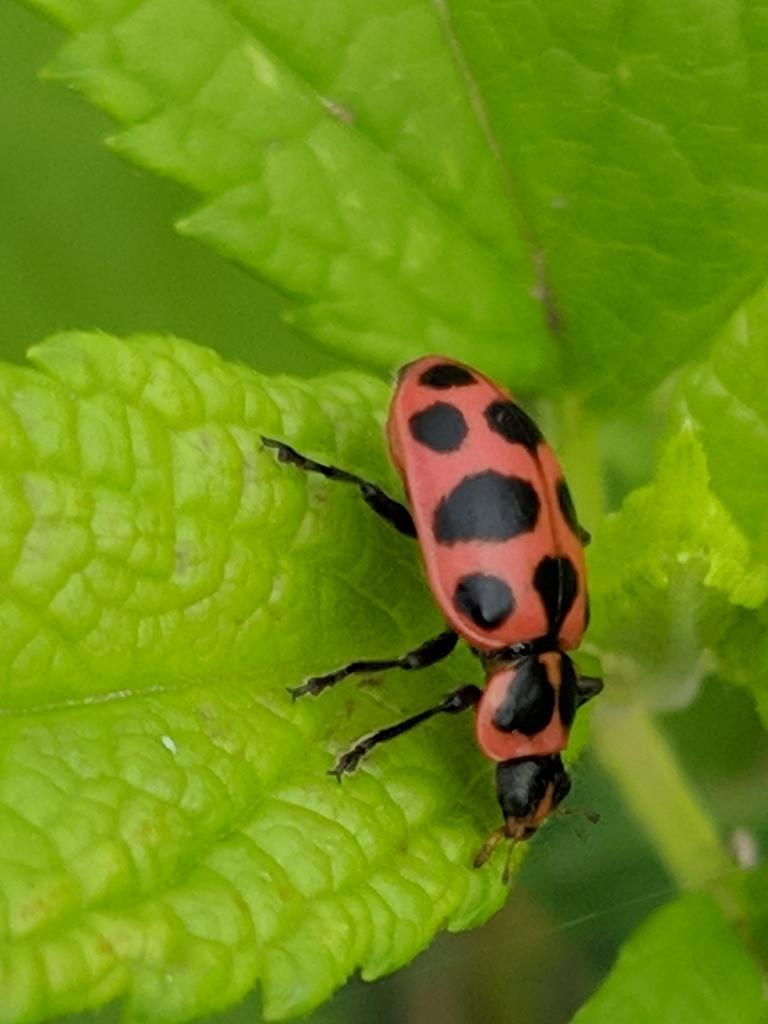ladybug: (251, 346, 616, 891)
